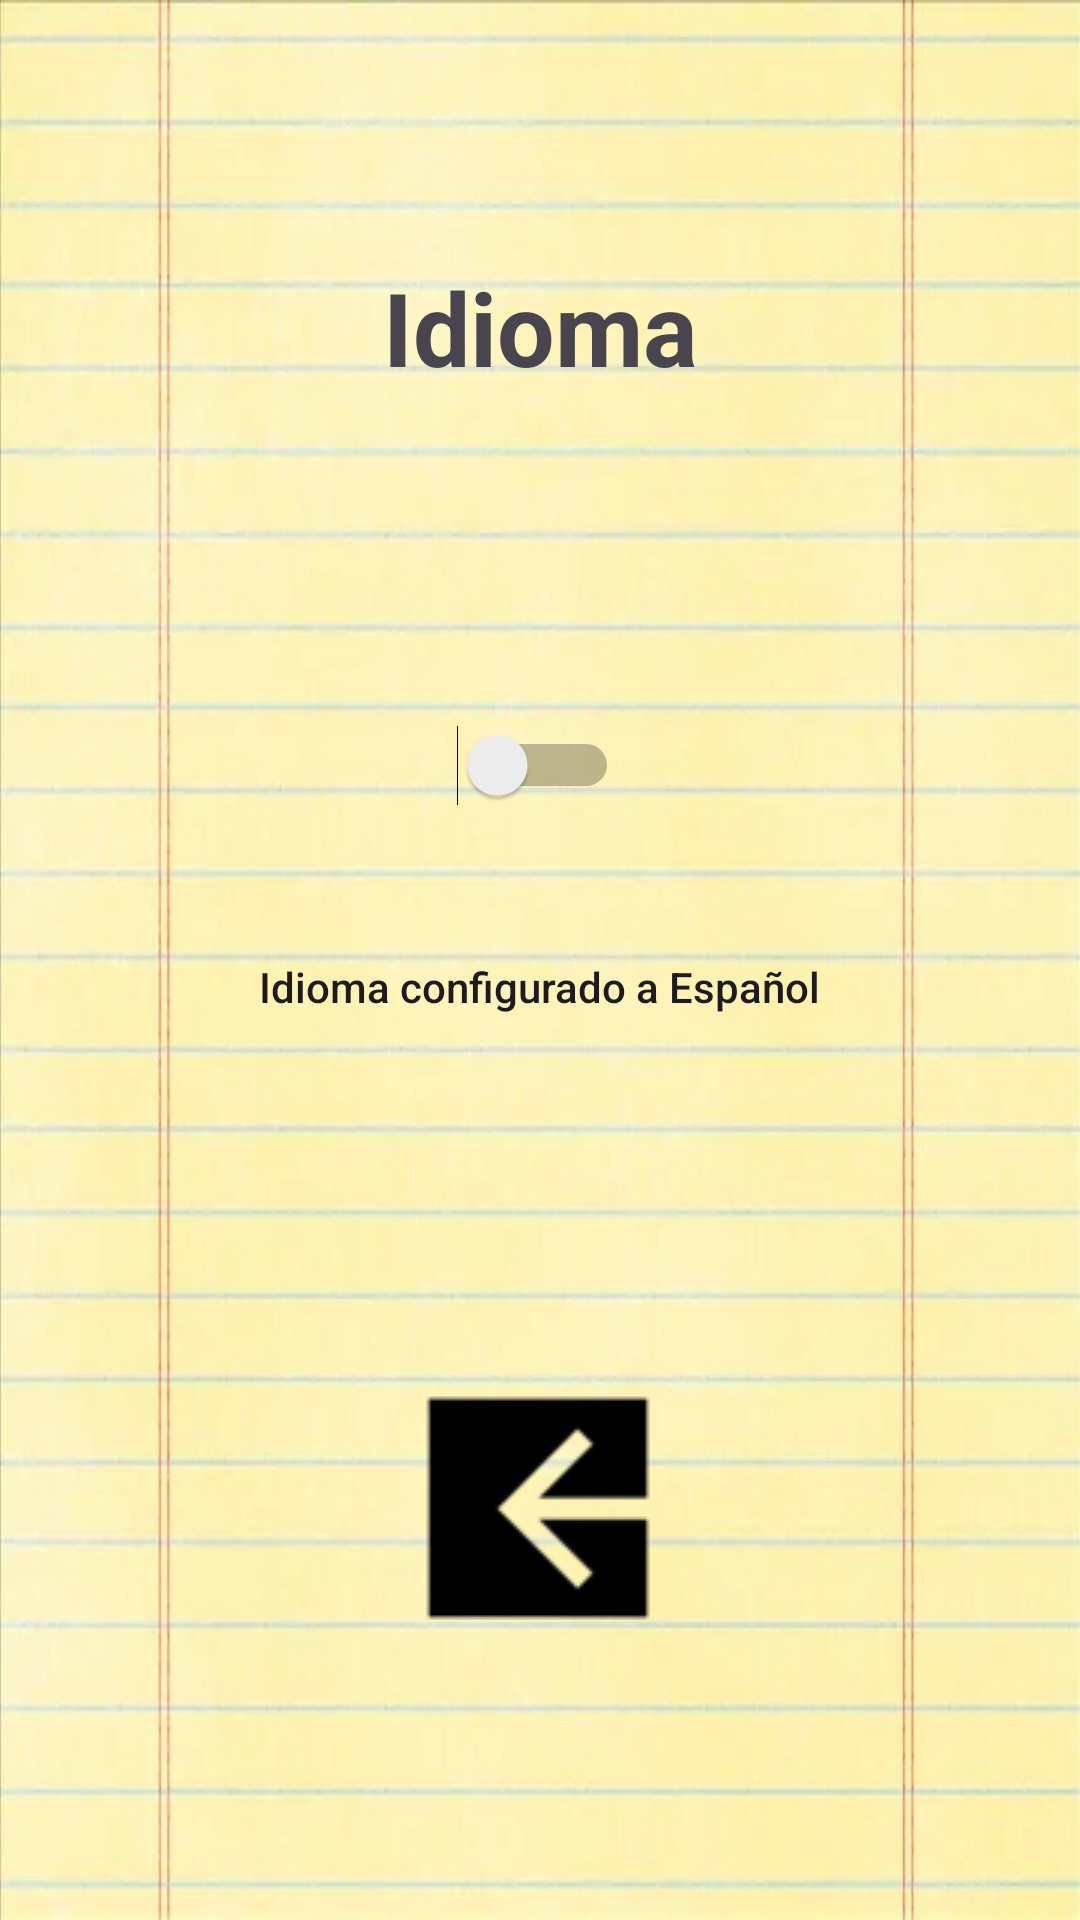

Icon click points for this 1080px x 1920px phone screenshot, format (x=x, y=y):
back: (x=538, y=1510)
